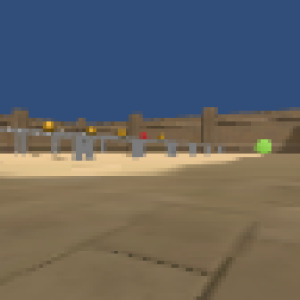badGoal: (139, 132, 147, 139)
goodGoal: (254, 137, 272, 154)
goodGoalMulti: (41, 120, 54, 132), (115, 128, 128, 138), (86, 125, 97, 136), (158, 134, 165, 140)
wall: (72, 133, 93, 160), (12, 128, 28, 155), (131, 139, 144, 156), (51, 132, 60, 154), (167, 142, 178, 158), (189, 143, 197, 157), (101, 138, 107, 152), (205, 144, 211, 154), (217, 145, 223, 153)
